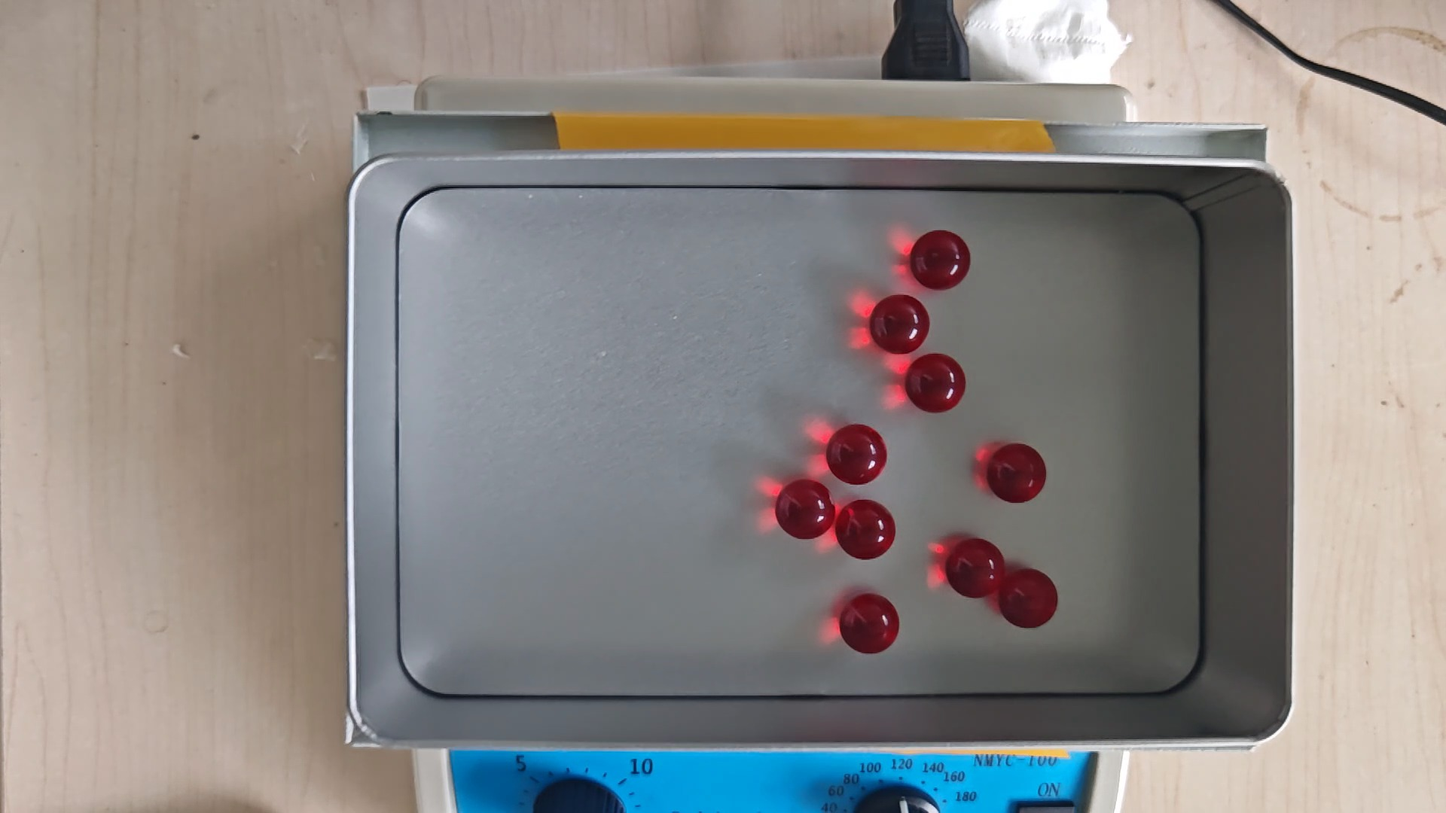ball: (827, 423, 888, 485), (905, 353, 966, 414), (945, 538, 1006, 599), (836, 499, 896, 561), (988, 442, 1047, 505), (775, 478, 834, 541), (840, 593, 900, 654), (911, 229, 970, 290), (870, 294, 929, 355), (1000, 568, 1058, 629)
container: (397, 188, 1202, 696)
